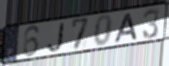0: (92, 13, 115, 48)
3: (142, 7, 160, 40)
6: (23, 24, 41, 58)
7: (71, 17, 90, 52)
A: (114, 11, 139, 44)
J: (46, 21, 66, 53)
